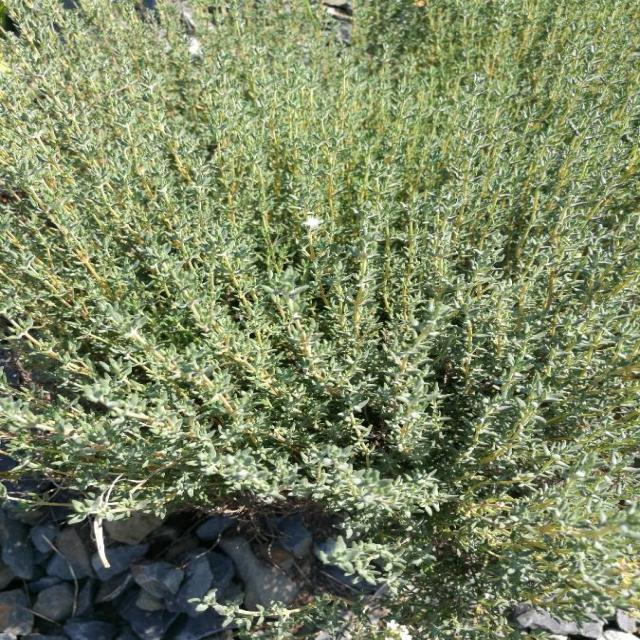Thyme: (6, 22, 637, 544)
